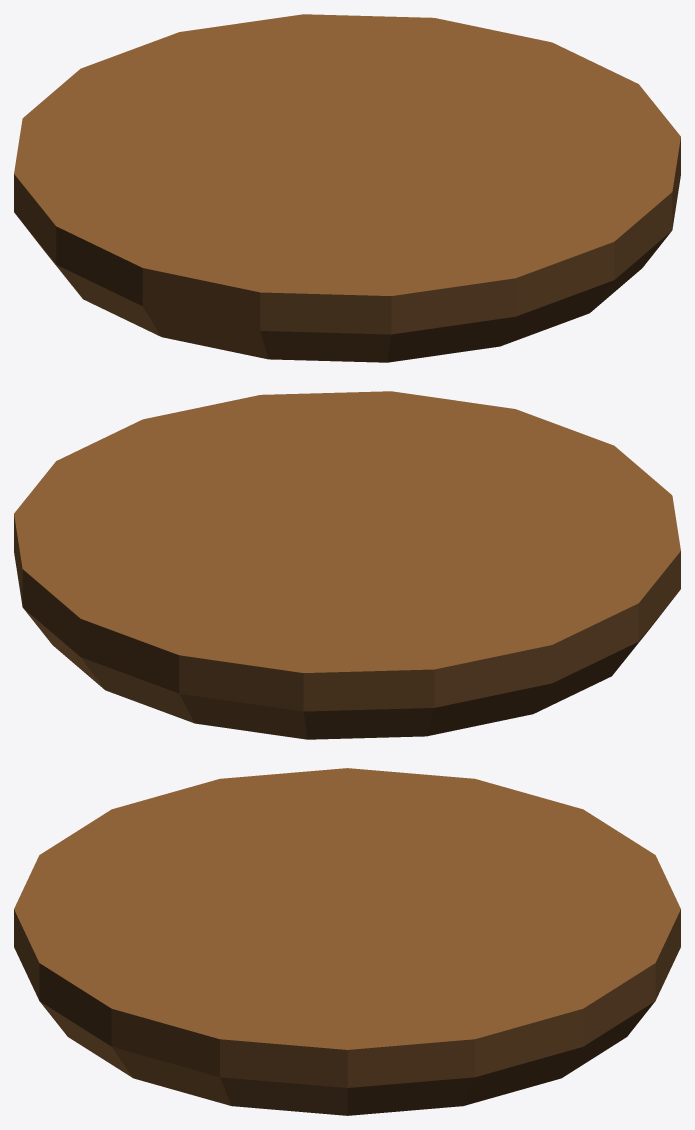
The model's file is hleb_niz.fbx.
3 views of the same model, one above another, from view 1: azimuth 30°, elevation 25°; view 2: azimuth 150°, elevation 25°; view 3: azimuth 270°, elevation 25° (orthographic).
Visible parts, largest first — view 1: Cylinder; view 2: Cylinder; view 3: Cylinder.
Boxes of the visible parts, x1=… form: Cylinder: x1=14, y1=14, x2=680, y2=362; Cylinder: x1=14, y1=391, x2=680, y2=739; Cylinder: x1=14, y1=768, x2=680, y2=1115.
Size of the model in its own units: 91.59 by 11.96 by 91.59.
